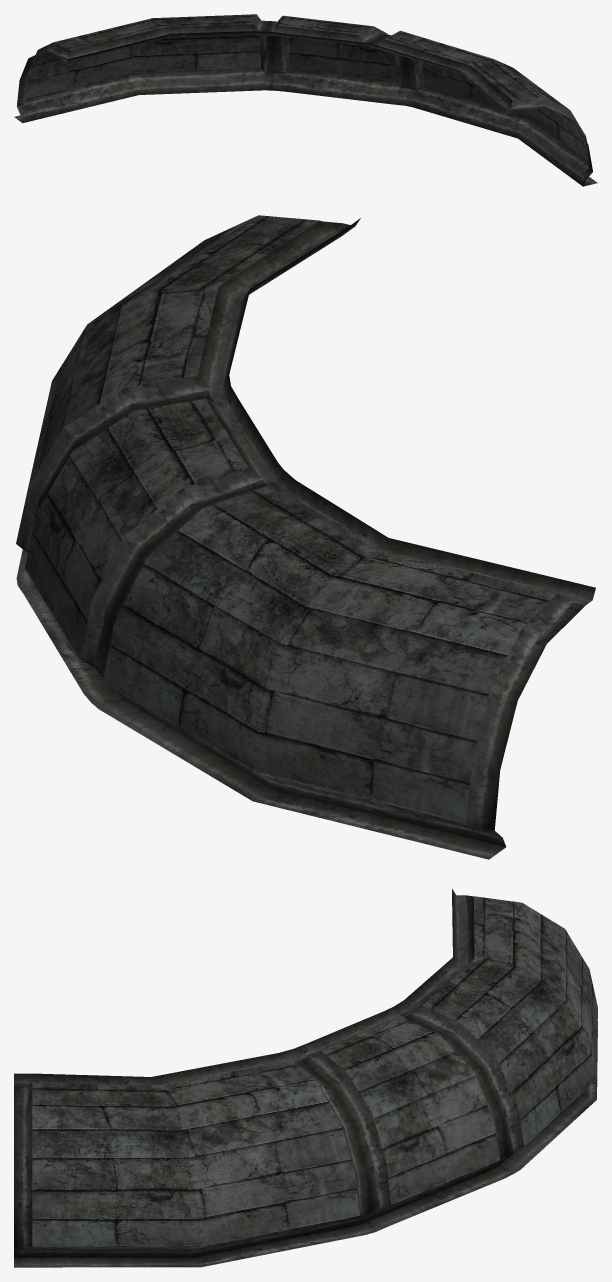
File: corner_concave_round_stairs_flat.dae
3 renders of one model, top to bottom at view 1: azimuth 30°, elevation 25°; view 2: azimuth 150°, elevation 25°; view 3: azimuth 270°, elevation 25°, orthographic. The views are drawn at different scales.
Parts seen in each view (by area): view 1: polySurface117, polySurface134; view 2: polySurface134, polySurface117; view 3: polySurface134, polySurface117.
Boxes of the visible parts, x1,y1,x2,y2 form: polySurface117: [14, 14, 597, 186]; polySurface134: [25, 14, 587, 159]; polySurface134: [24, 215, 556, 823]; polySurface117: [16, 218, 595, 859]; polySurface134: [32, 896, 597, 1246]; polySurface117: [14, 889, 597, 1267].
Bounding box in the file's own units: 8 × 2 × 8.
